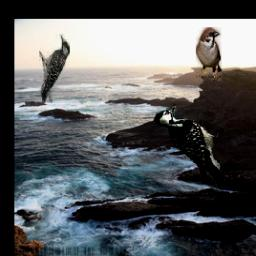Sparrow: (197, 28, 223, 82)
Woodpecker: (153, 104, 224, 191), (39, 32, 70, 103)
